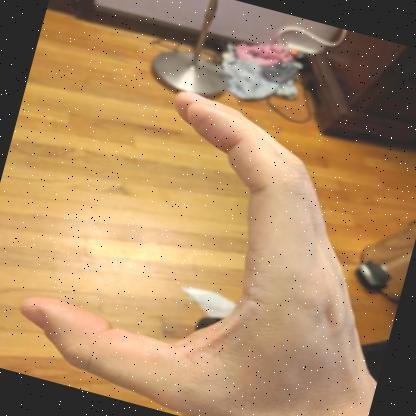C: (19, 91, 376, 416)
